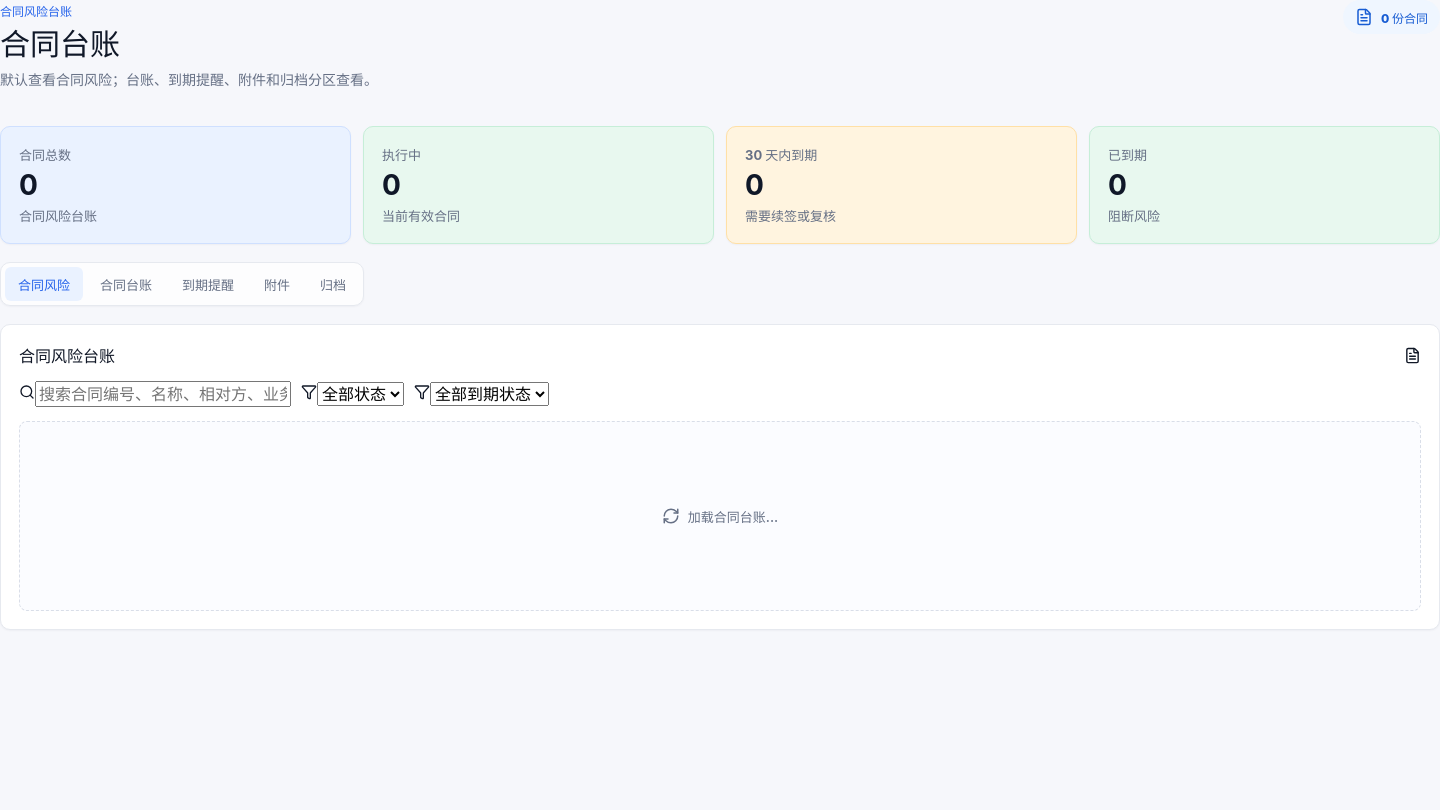
Test: ContractsWorkspace 行内校验 › 结束日期早于开始日期时显示跨字段错误
Click the tab "合同台账". click: point(126, 284)
box: [87,268,165,302]
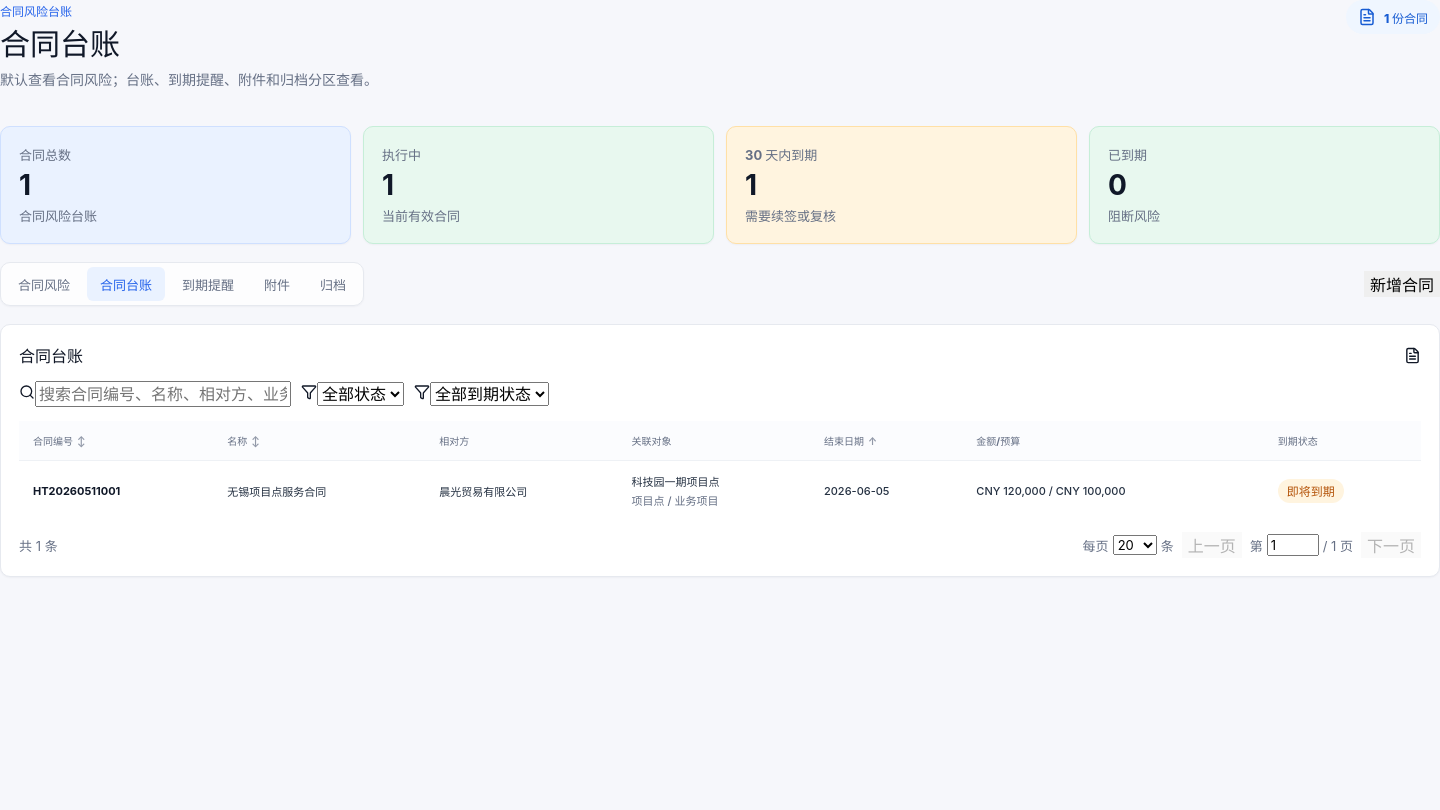
Now the text "HT20260511001" is shown, box [19,461,217,520]
Click the button "新增合同". click: point(1402, 284)
box: [1364,272,1439,298]
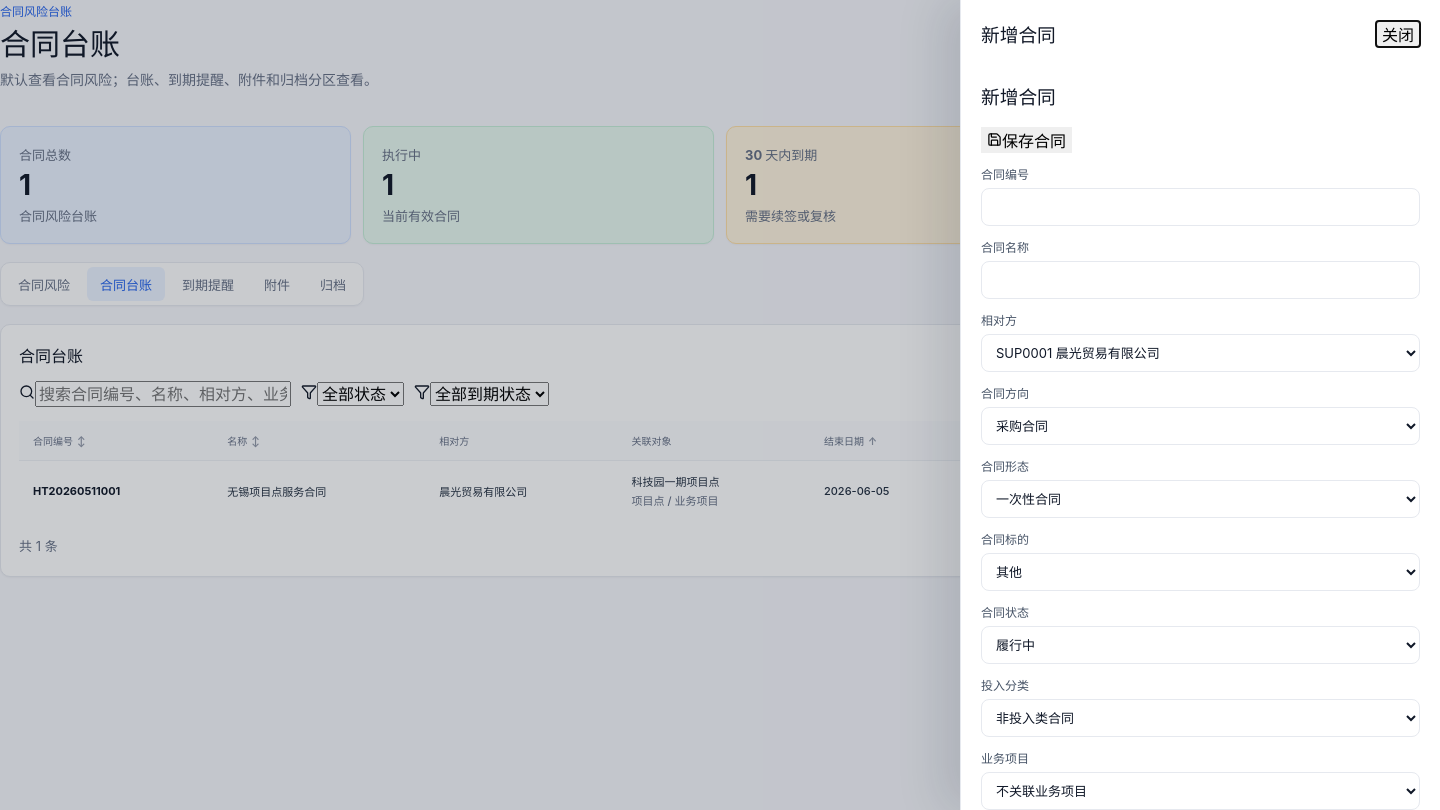
Type "HT-1" into the field labelled "合同编号". click: point(1200, 207)
box: [981,188,1420,226]
Type "测试合同" into the field labelled "合同名称". click: point(1200, 280)
box: [981,261,1420,299]
(page scrolled)
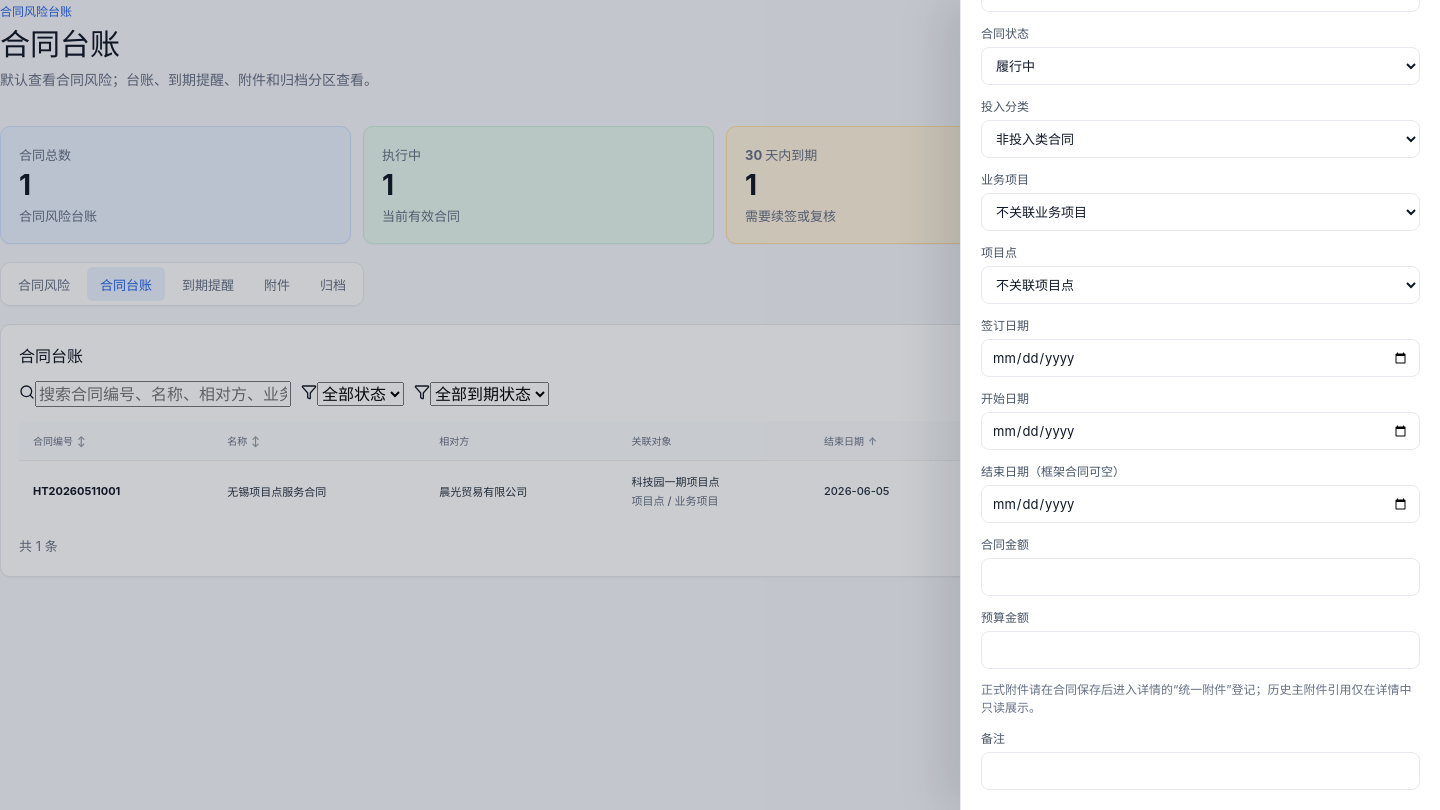
Type "2026-06-10" into the date field labelled "开始日期". click: point(1200, 431)
box: [981,412,1420,450]
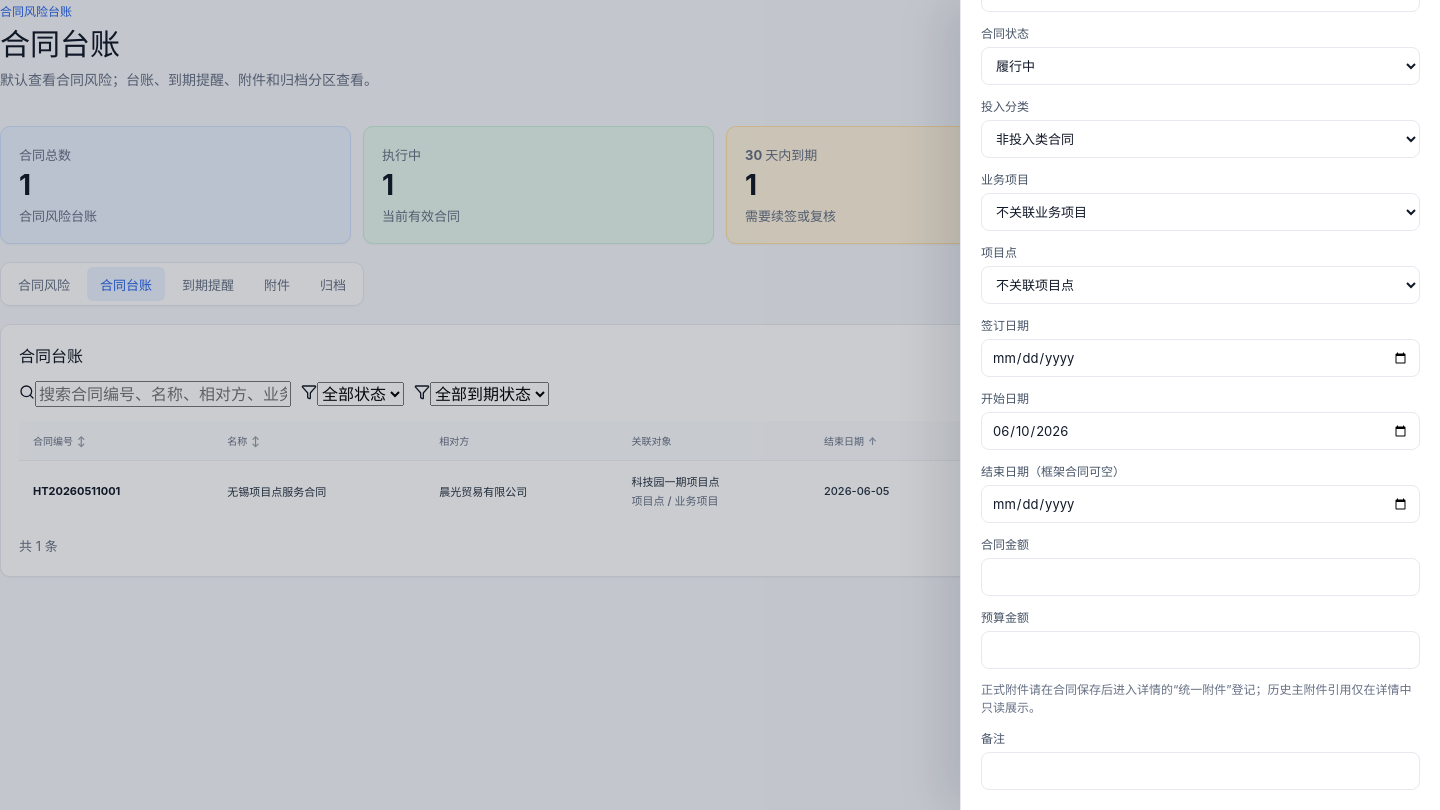
Type "2026-06-01" into the date field labelled "结束日期". click: point(1200, 504)
box: [981,485,1420,523]
(page scrolled)
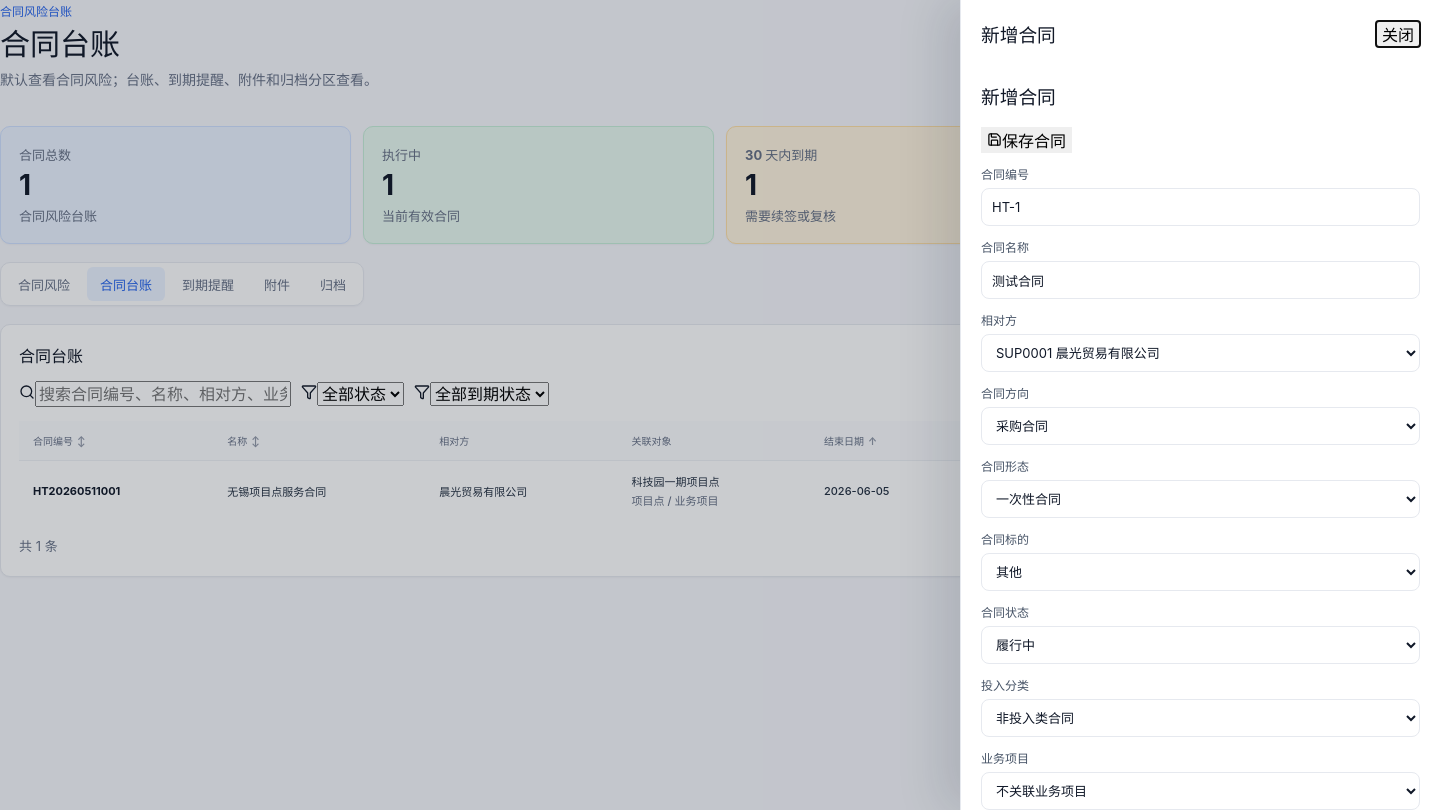
Click the button "保存合同". click: point(1026, 140)
box: [981,127,1072,153]
(page scrolled)
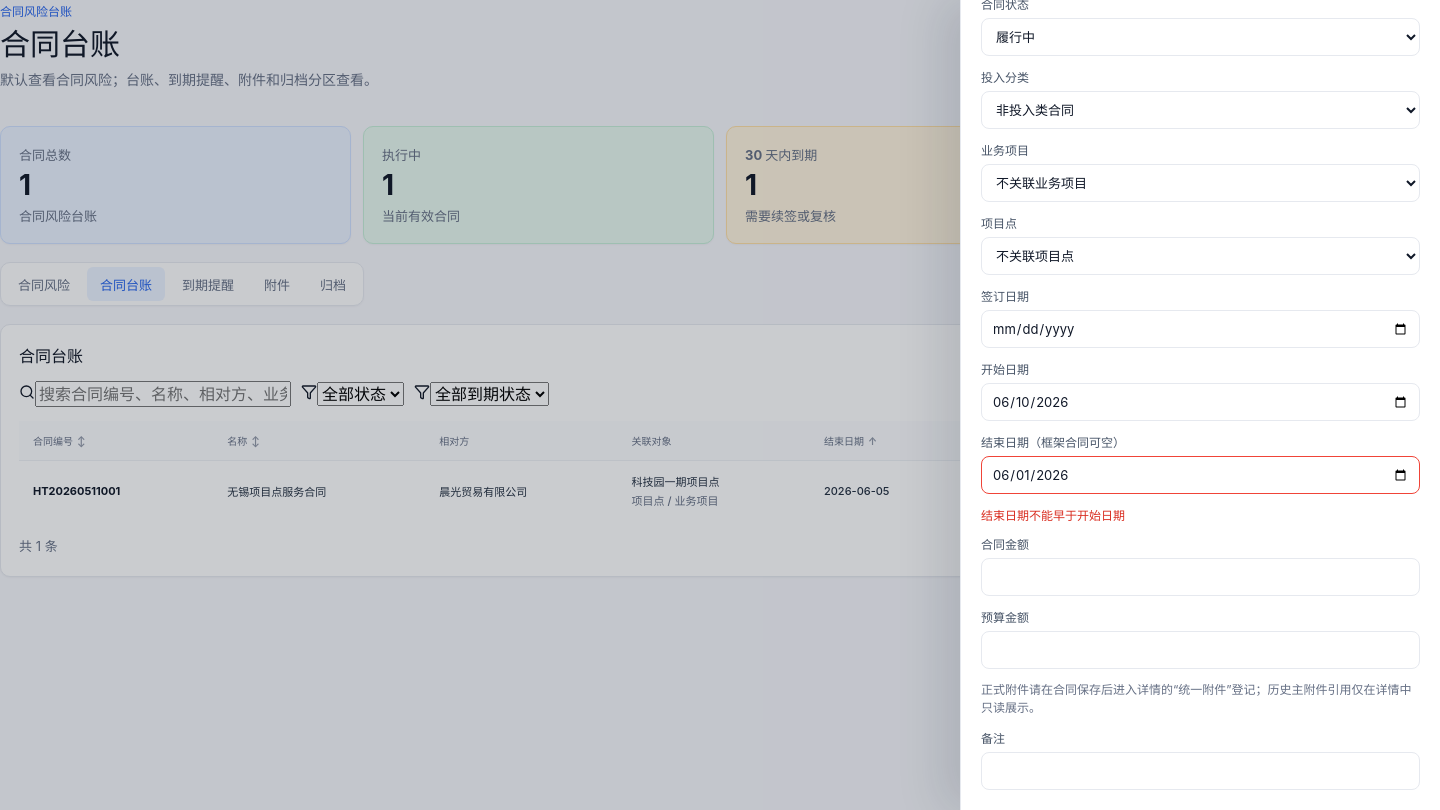
Now the text "结束日期不能早于开始日期" is shown, box [981,508,1125,523]
